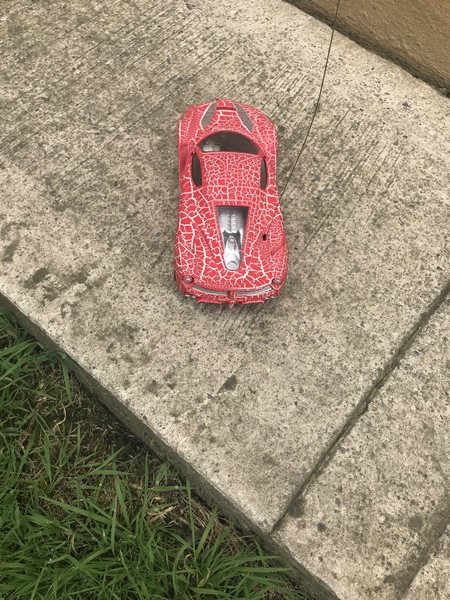RC: (174, 97, 287, 310)
